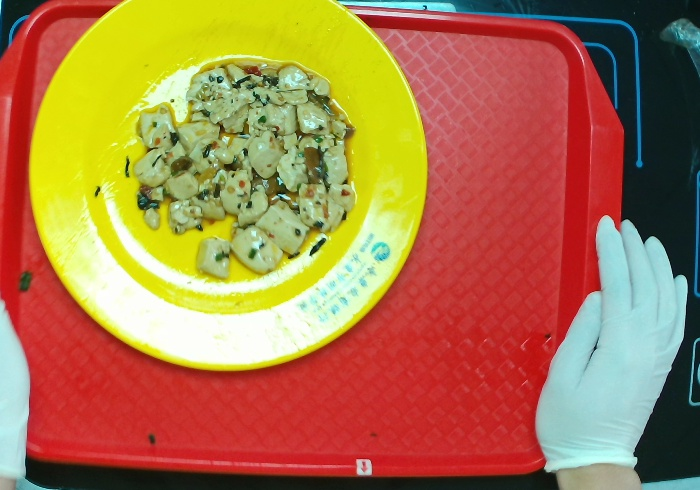YKMZ-Huang_Se_Mian_Pan: (26, 1, 431, 373)
